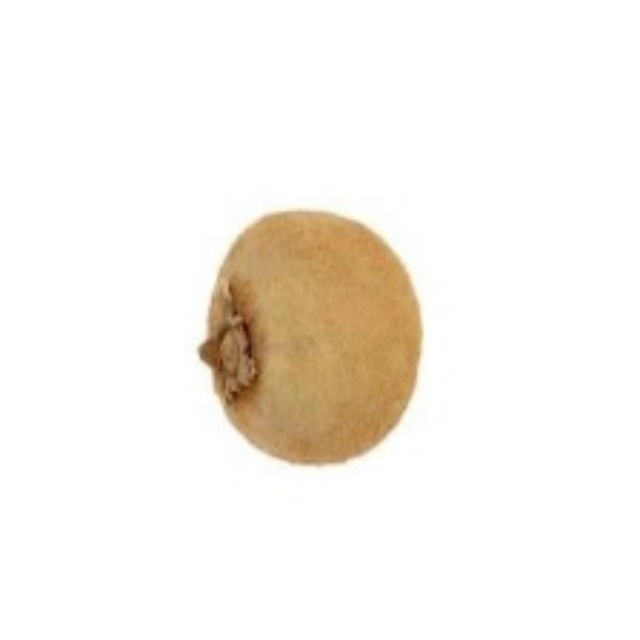kiwi: (212, 199, 414, 468)
